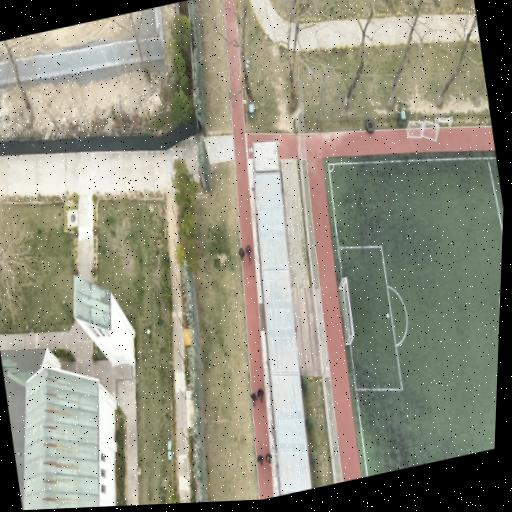person: (257, 389, 264, 401), (246, 245, 251, 261), (257, 455, 263, 465), (266, 453, 272, 463), (239, 248, 244, 260), (252, 393, 257, 405)
